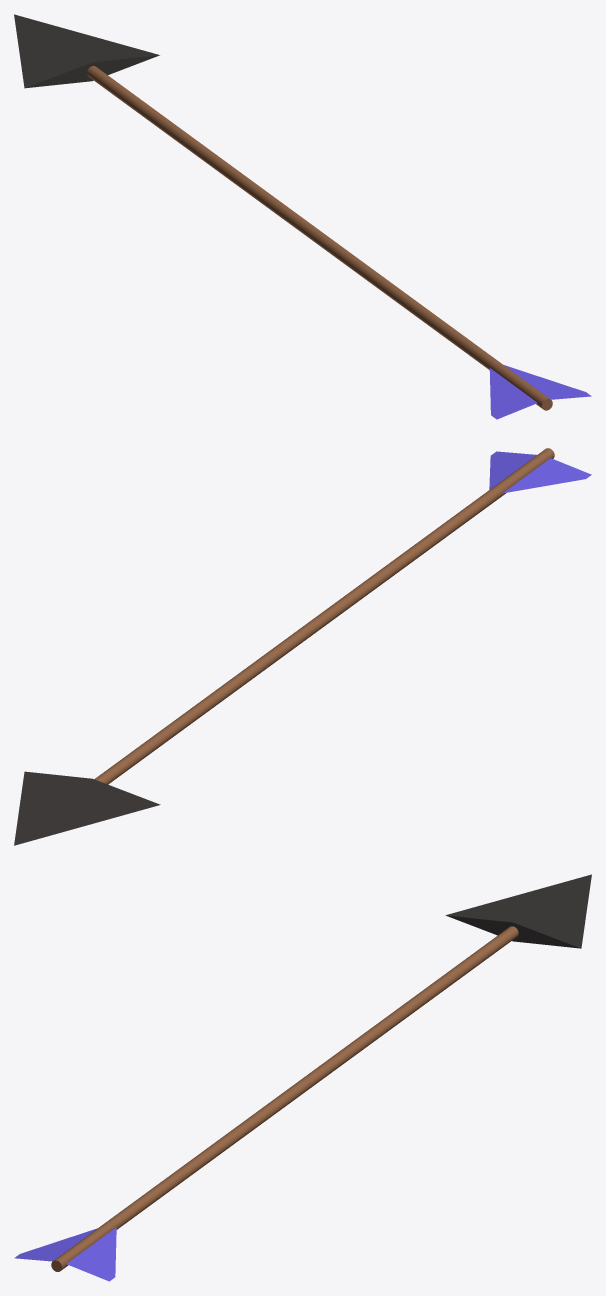
Rendered from Arrow.gltf.
3 renders of one model, top to bottom at view 1: azimuth 30°, elevation 25°; view 2: azimuth 150°, elevation 25°; view 3: azimuth 330°, elevation 25°, orthographic.
Visible parts, largest first — view 1: Cylinder, Cube; view 2: Cylinder, Cube; view 3: Cylinder, Cube.
Boxes of the visible parts, x1,y1,x2,y2 form: Cylinder: (87, 66, 591, 419); Cube: (14, 14, 159, 88); Cylinder: (94, 448, 591, 784); Cube: (14, 771, 160, 845); Cylinder: (14, 926, 518, 1281); Cube: (445, 874, 591, 948).
Size of the model in its own units: 1.42 by 0.1878 by 9.64.
